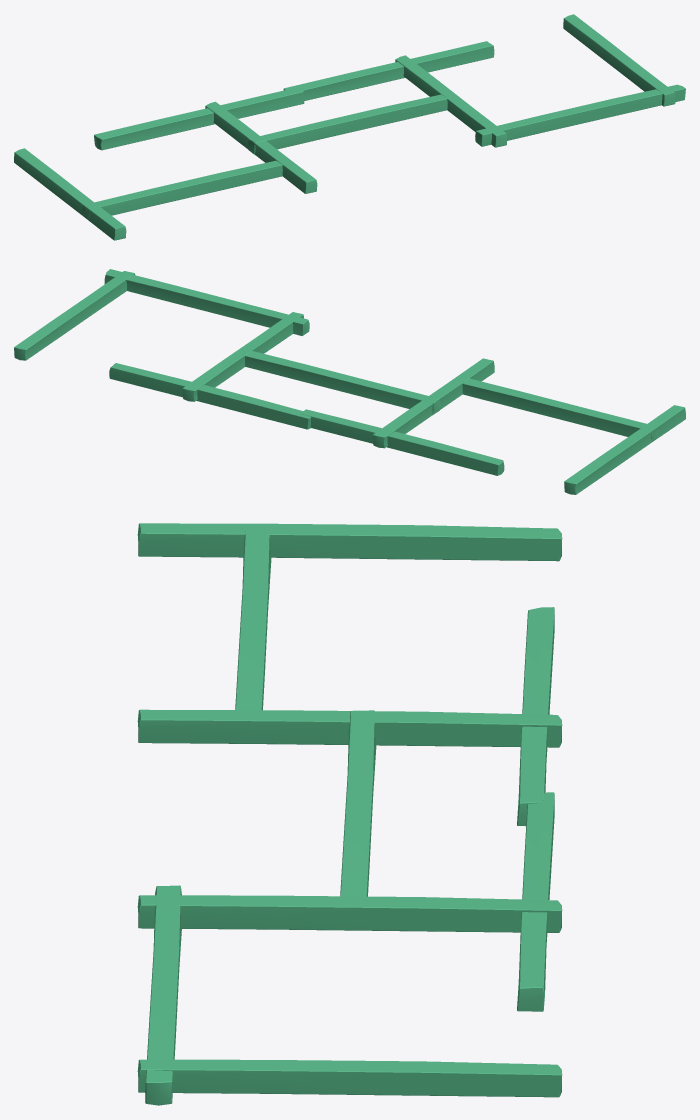
The model's file is Floor_Hole_02_Beam_Lod0.fbx.
3 renders of one model, top to bottom at view 1: azimuth 30°, elevation 25°; view 2: azimuth 150°, elevation 25°; view 3: azimuth 270°, elevation 25°, orthographic. The views are drawn at different scales.
Visible parts, largest first — view 1: Floor_Hole_02_Beam_Lod0; view 2: Floor_Hole_02_Beam_Lod0; view 3: Floor_Hole_02_Beam_Lod0.
Boxes of the visible parts, x1,y1,x2,y2 form: Floor_Hole_02_Beam_Lod0: [14, 14, 685, 240]; Floor_Hole_02_Beam_Lod0: [14, 269, 685, 494]; Floor_Hole_02_Beam_Lod0: [137, 523, 562, 1105].
Bounding box in the file's own units: 907 × 21.54 × 291.
